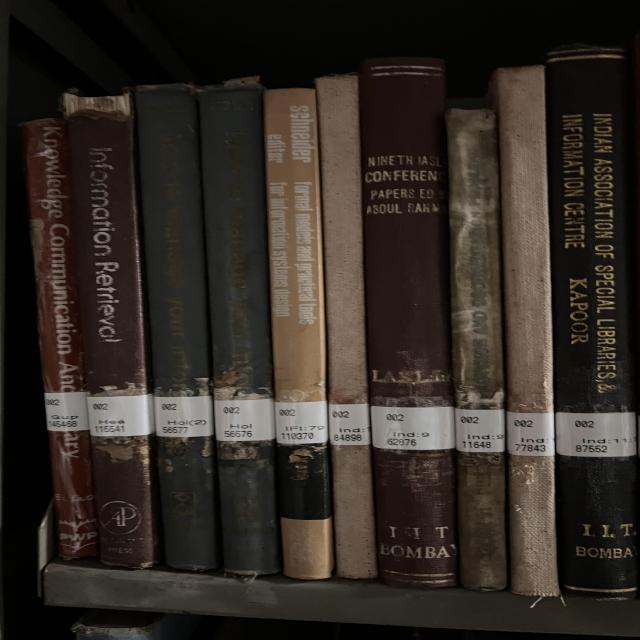Book: (358, 58, 457, 589), (547, 46, 638, 599), (62, 94, 160, 569), (135, 84, 220, 570), (198, 79, 280, 575), (490, 66, 560, 596), (263, 89, 333, 579), (22, 119, 98, 559), (315, 74, 378, 579), (447, 109, 507, 590)
Label: (555, 412, 637, 458), (370, 406, 455, 450), (87, 394, 155, 436), (153, 395, 215, 438), (215, 399, 275, 441), (275, 401, 328, 445), (507, 411, 555, 456), (455, 409, 505, 452), (328, 404, 370, 445), (45, 391, 88, 431)
